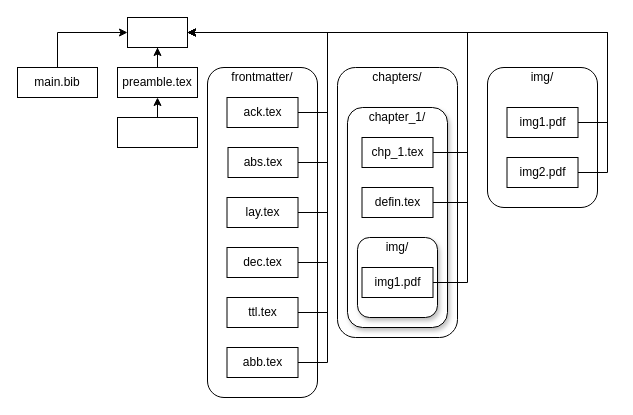
Image size: 633x415. Some labels were removed from this diagram. The centre of each missing label's shape, as x and y in pixels:
"definitions.tex" belongs at [157,132].
"main.tex" belongs at [157,32].
